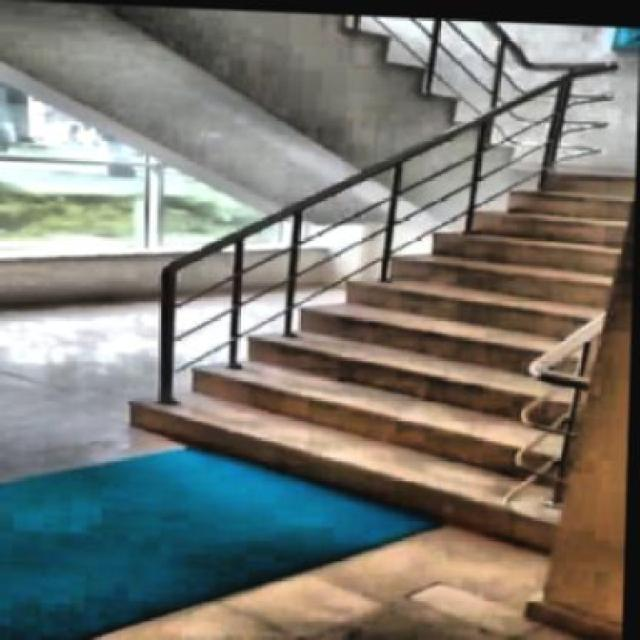stair: (142, 115, 636, 552)
